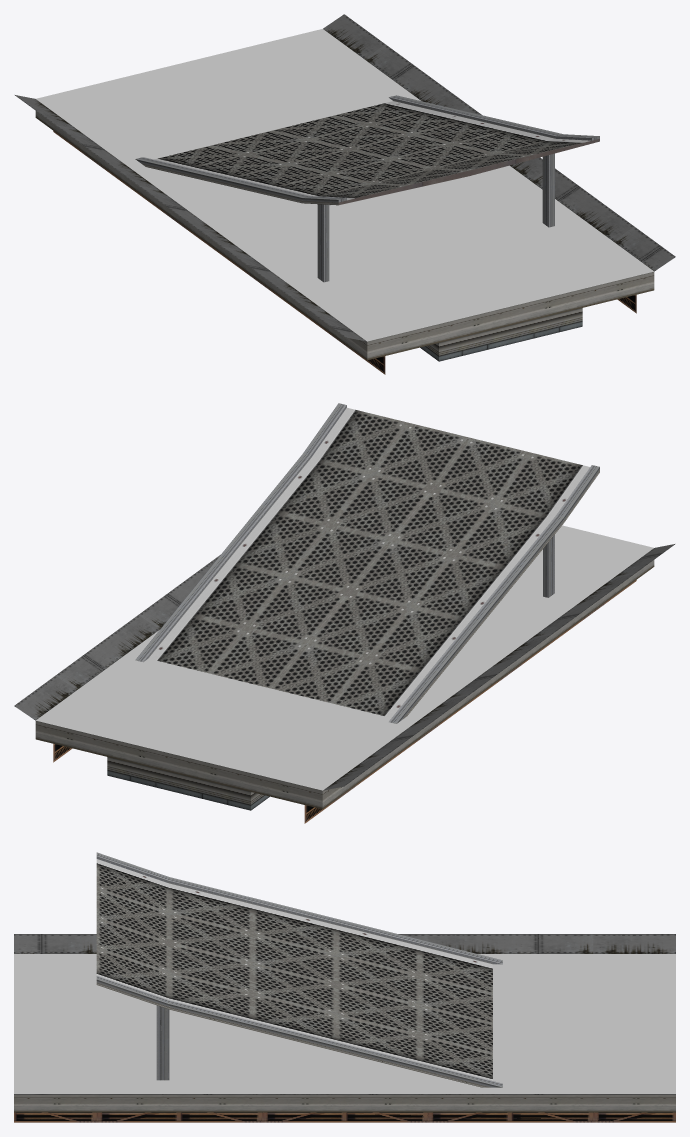
Rendered from Ramps01.fbx.
3 views of the same model, one above another, from view 1: azimuth 30°, elevation 25°; view 2: azimuth 150°, elevation 25°; view 3: azimuth 270°, elevation 25° (orthographic).
Parts seen in each view (by area): view 1: Empty_Mesh; view 2: Empty_Mesh; view 3: Empty_Mesh.
Boxes of the visible parts, box(x1,y1,x2,y2) form: Empty_Mesh: box(15, 14, 675, 374); Empty_Mesh: box(14, 403, 674, 823); Empty_Mesh: box(14, 852, 675, 1122).
Bounding box in the file's own units: 18.4 × 7.76 × 32.
